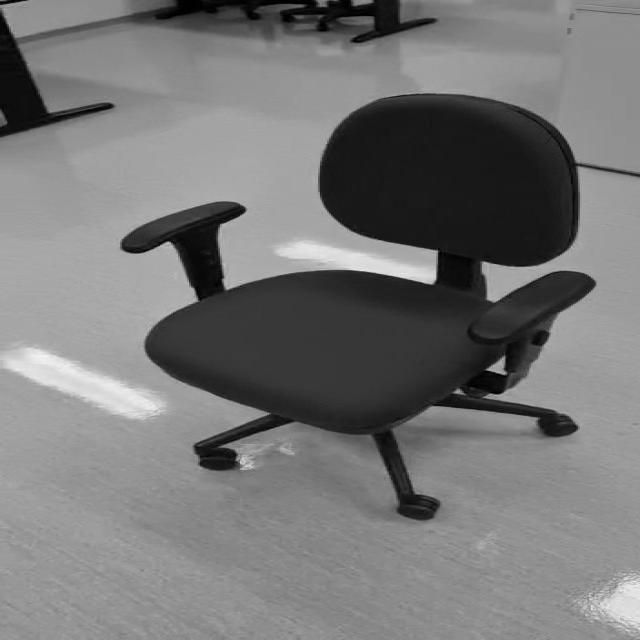cadeira-azul: (120, 93, 596, 521)
